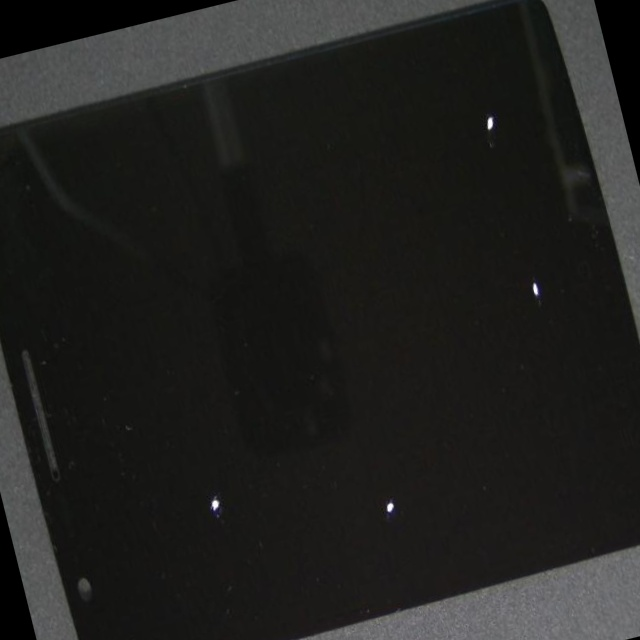stain: (161, 177, 624, 640), (217, 45, 640, 485), (49, 192, 354, 640), (191, 0, 631, 250)
